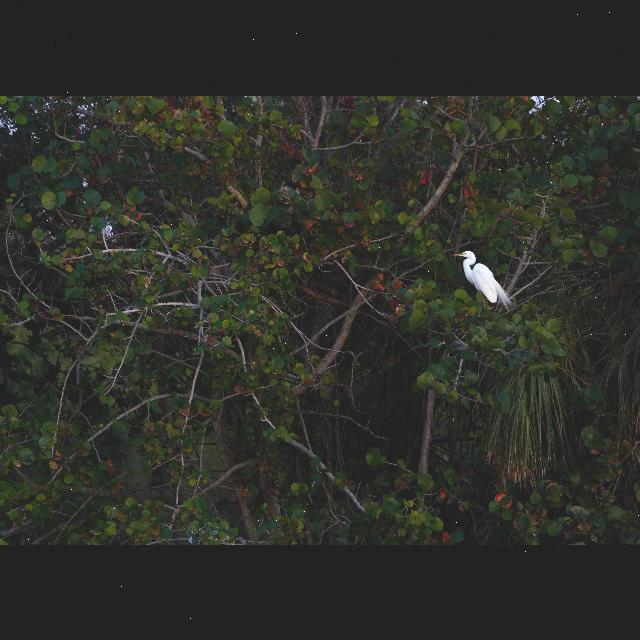egret: (448, 245, 509, 309)
